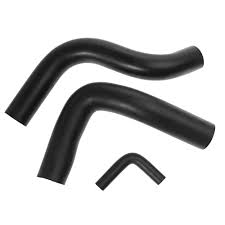radiator_hose: (39, 83, 215, 185), (8, 38, 204, 125)
